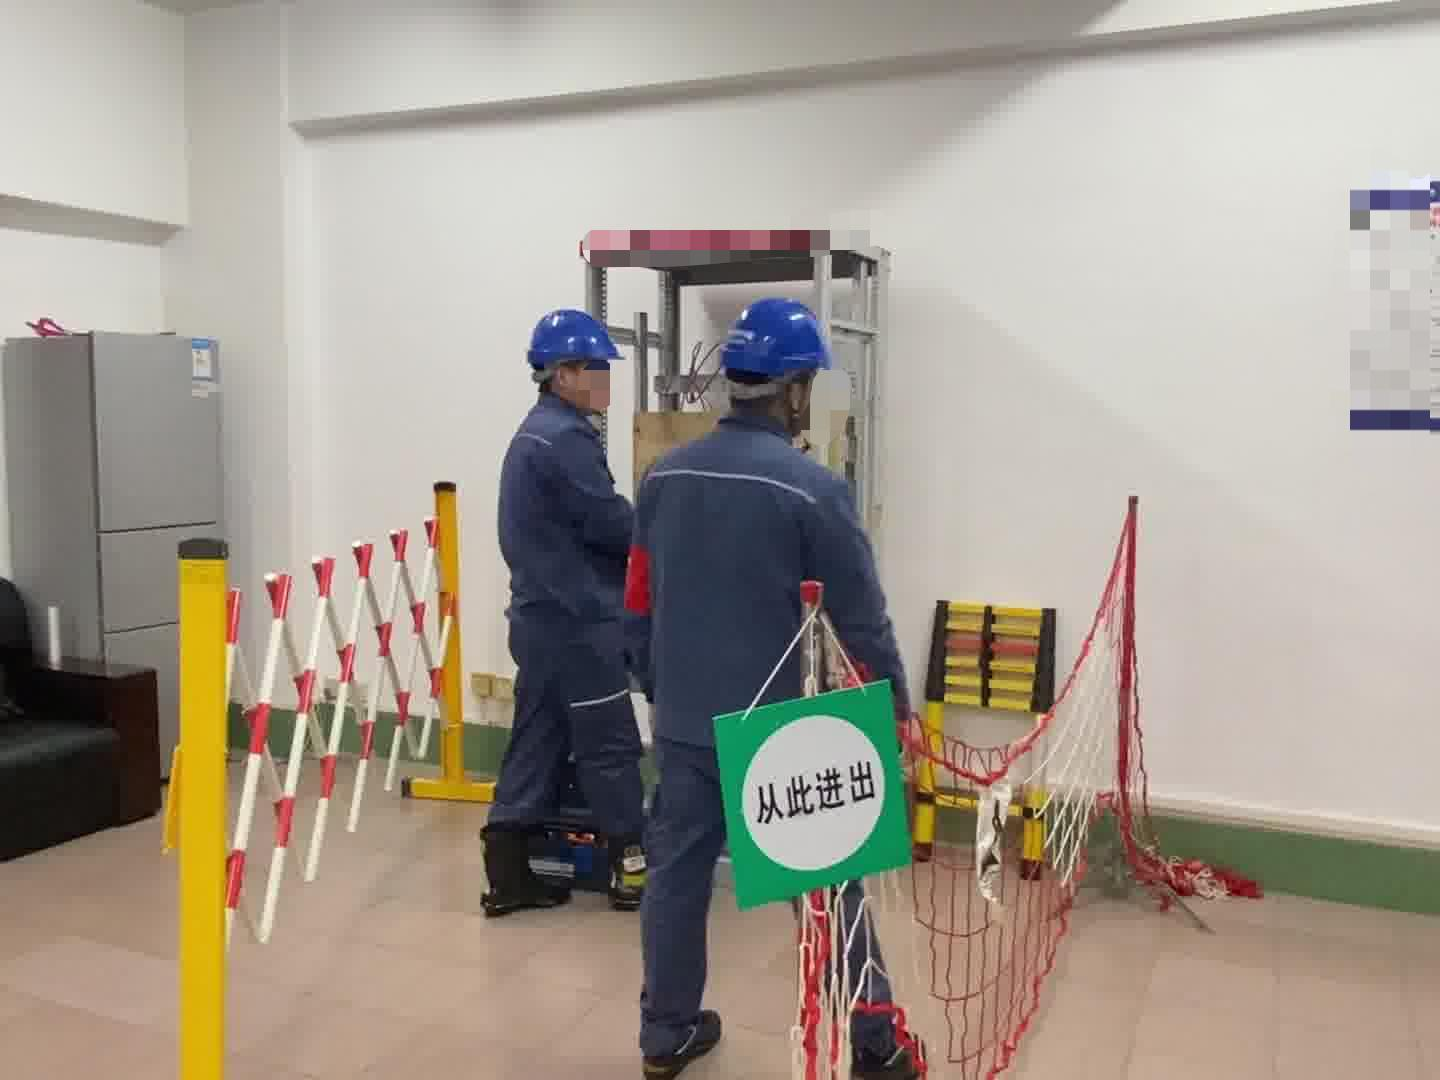halt: (721, 297, 841, 423), (526, 311, 625, 410)
inear: (776, 372, 819, 428)
noear: (544, 362, 587, 403)
